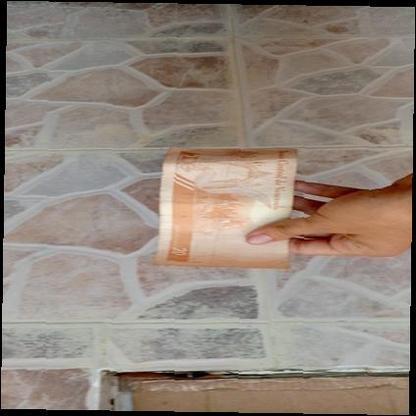twenty-back-vef: (153, 146, 296, 268)
